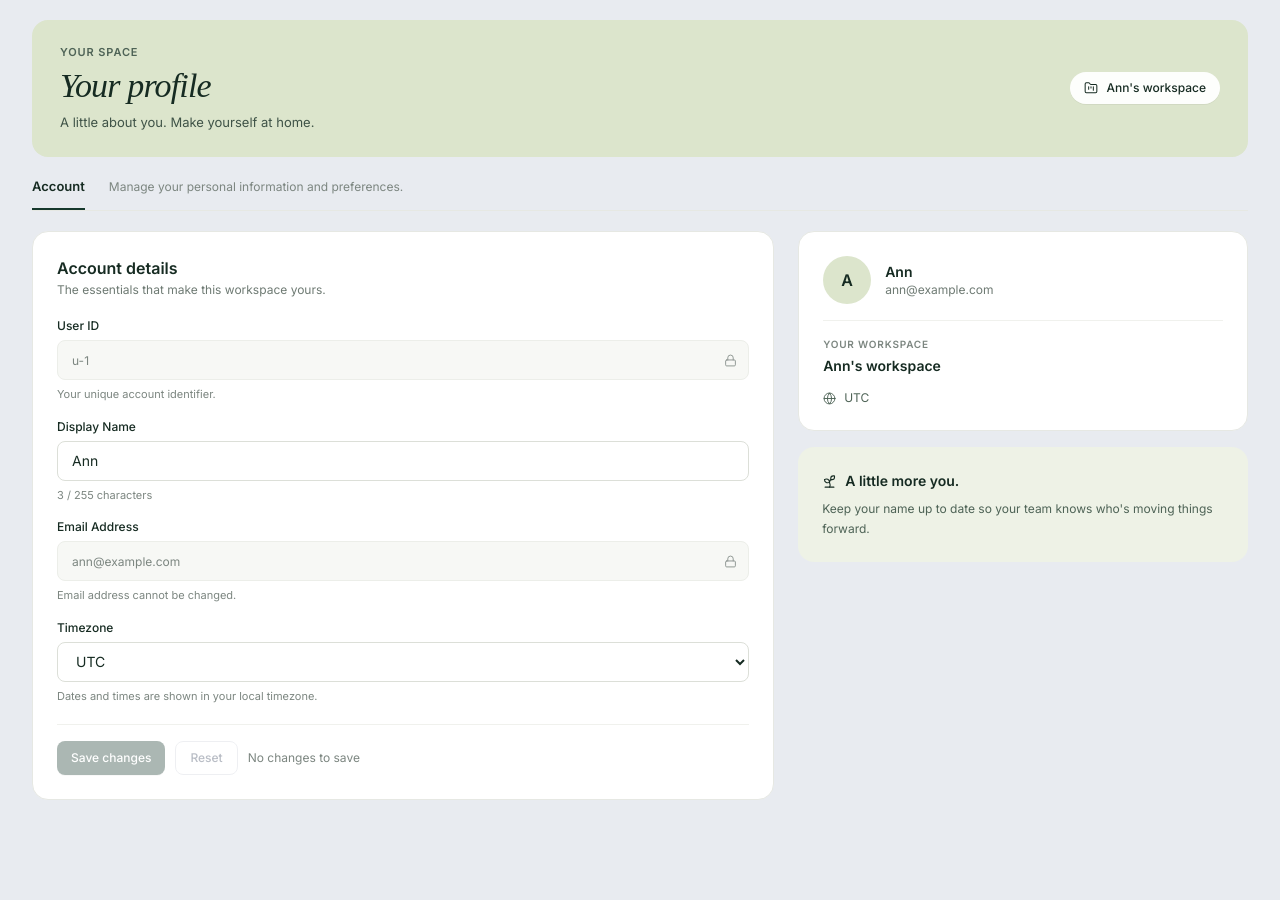
it: ProfilePage › shows a general error when the request fails
Type "x" into the field labelled "Display Name".
click(403, 460); type("x")  # box x1=57 y1=440 x2=749 y2=480
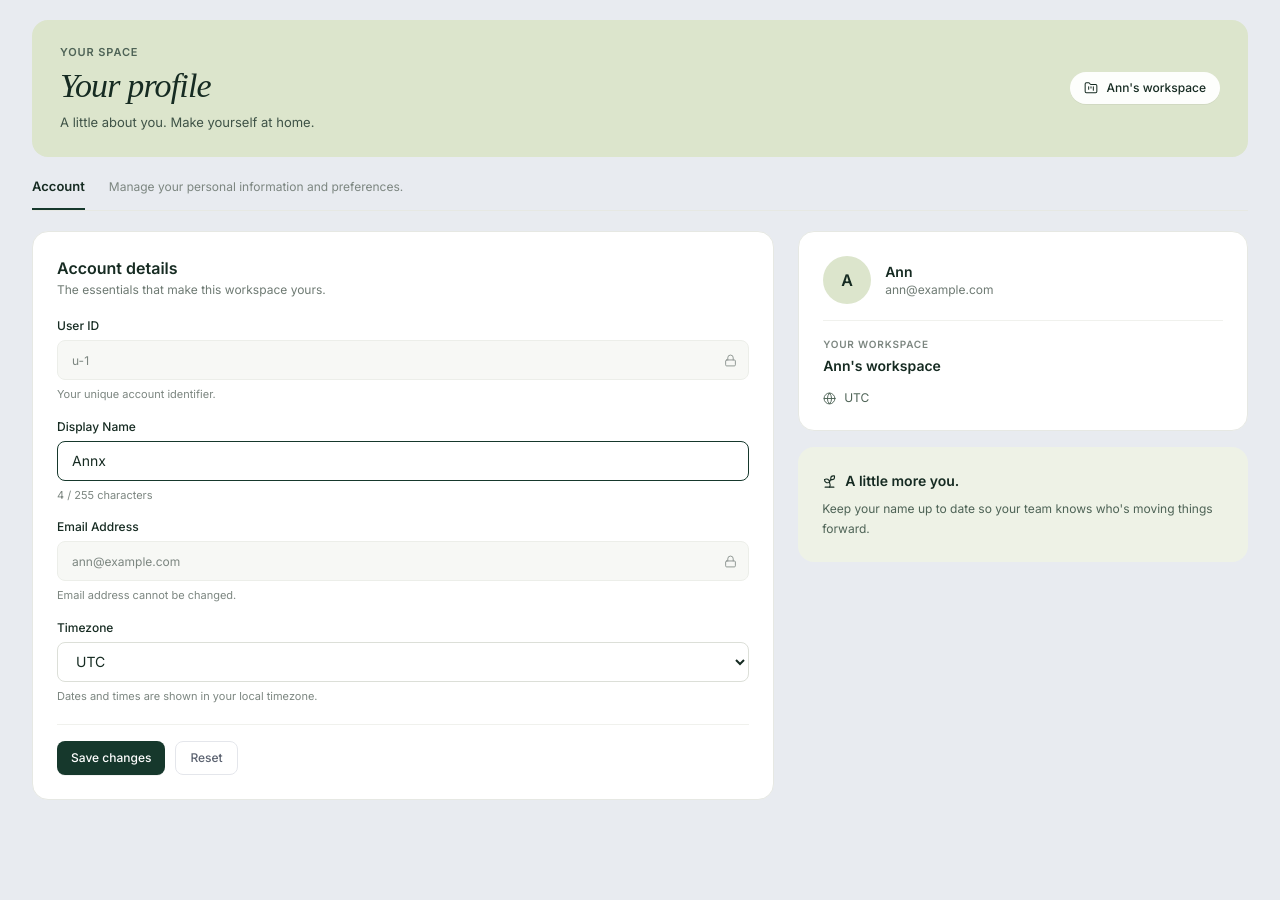
Click the button "Save changes".
click(111, 758)  # box x1=57 y1=741 x2=165 y2=775
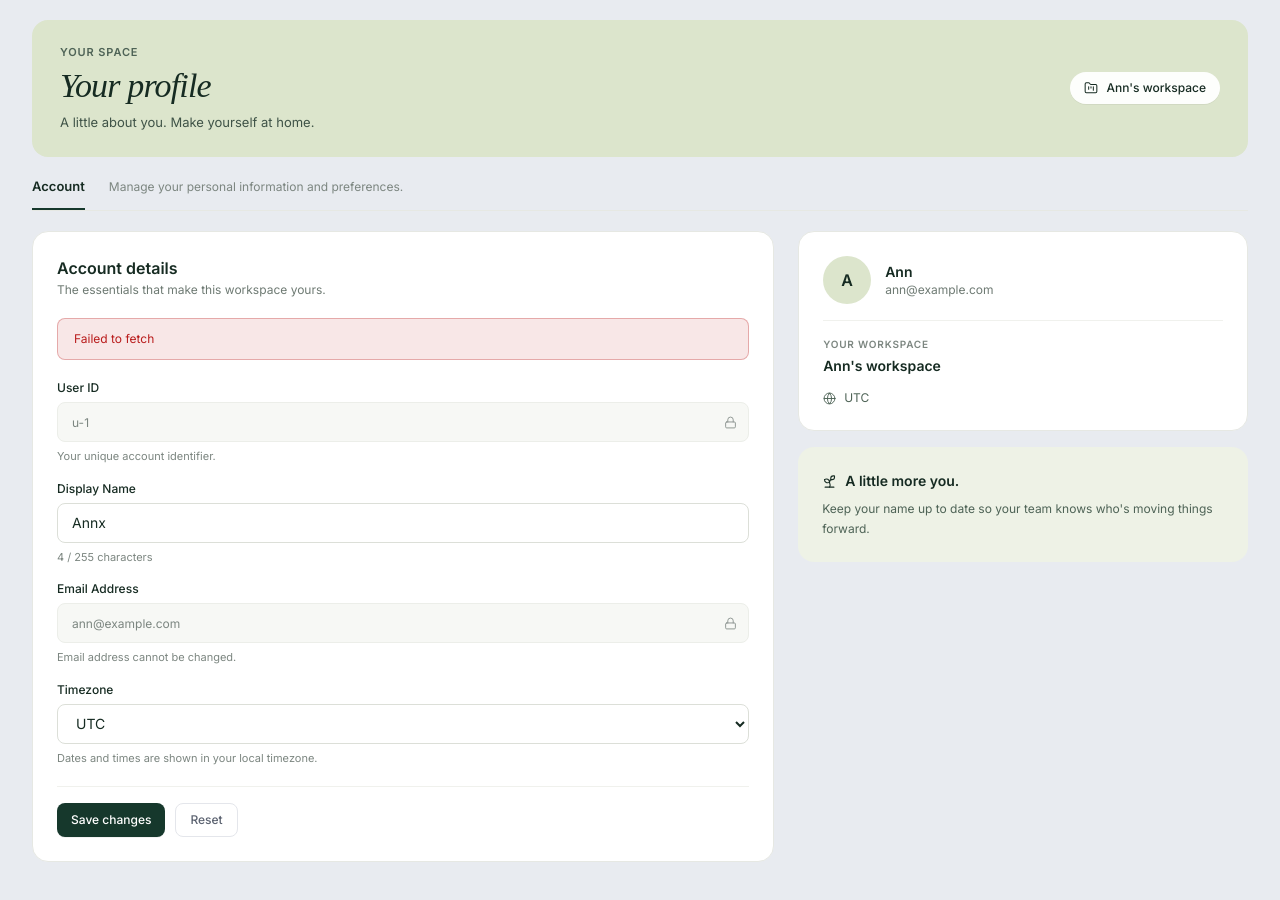
Expected: the message "Failed to fetch" is shown, x1=57 y1=318 x2=749 y2=360
